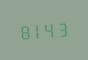eight: (18, 21, 30, 40)
four: (44, 19, 56, 39)
one: (31, 20, 43, 40)
three: (57, 19, 69, 38)
